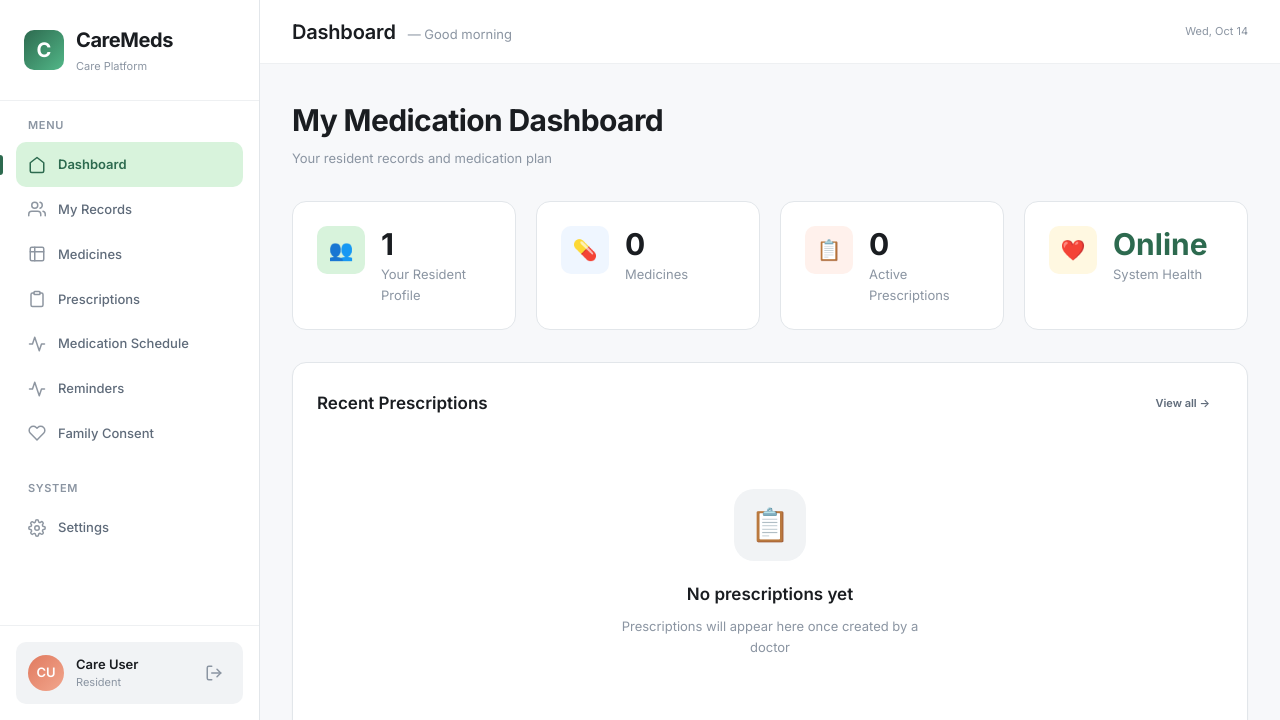
it: CareMeds role-based application surfaces › keeps resident reminder acknowledgement separate from administration
Check: the heading "My Medication Dashboard" is shown, box [292,96,663,144]
Click the button "Medication Schedule" at (130, 344), box [16,321,243,366]
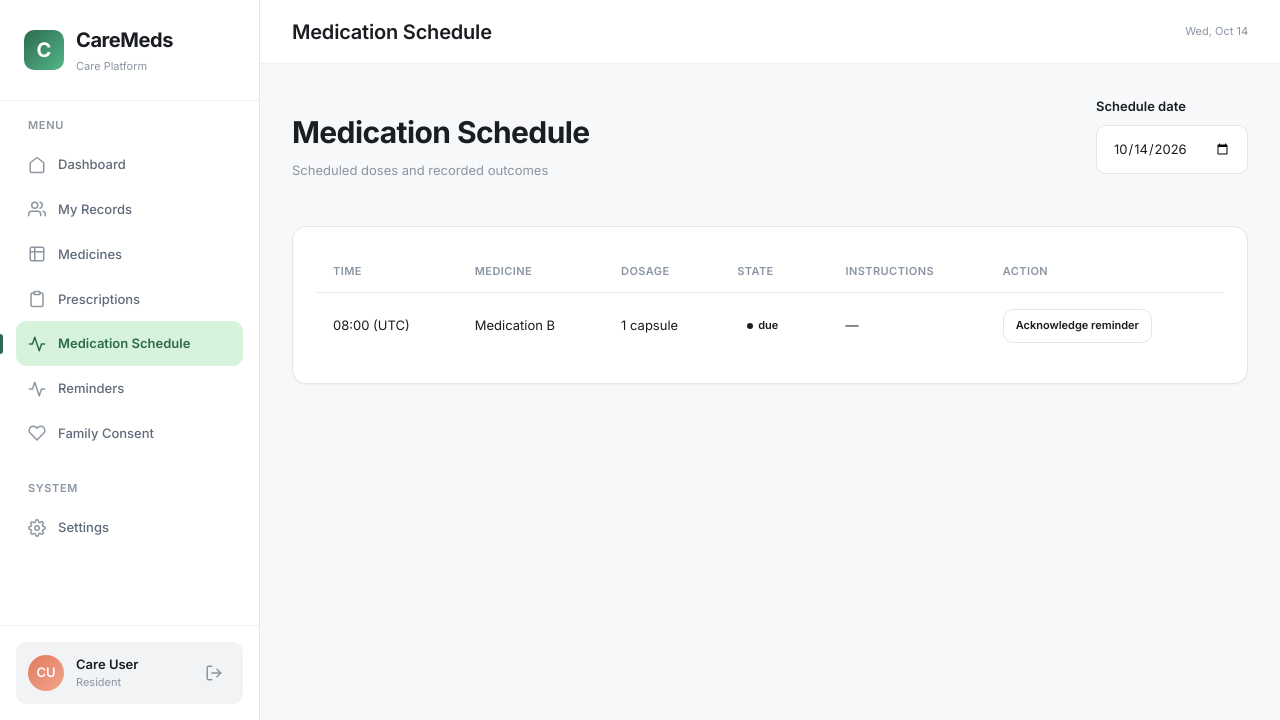
Check: the text "Medication B" is shown, box [459,293,605,359]
Click the button "Acknowledge reminder" at (1077, 326), box [1003,309,1152,343]
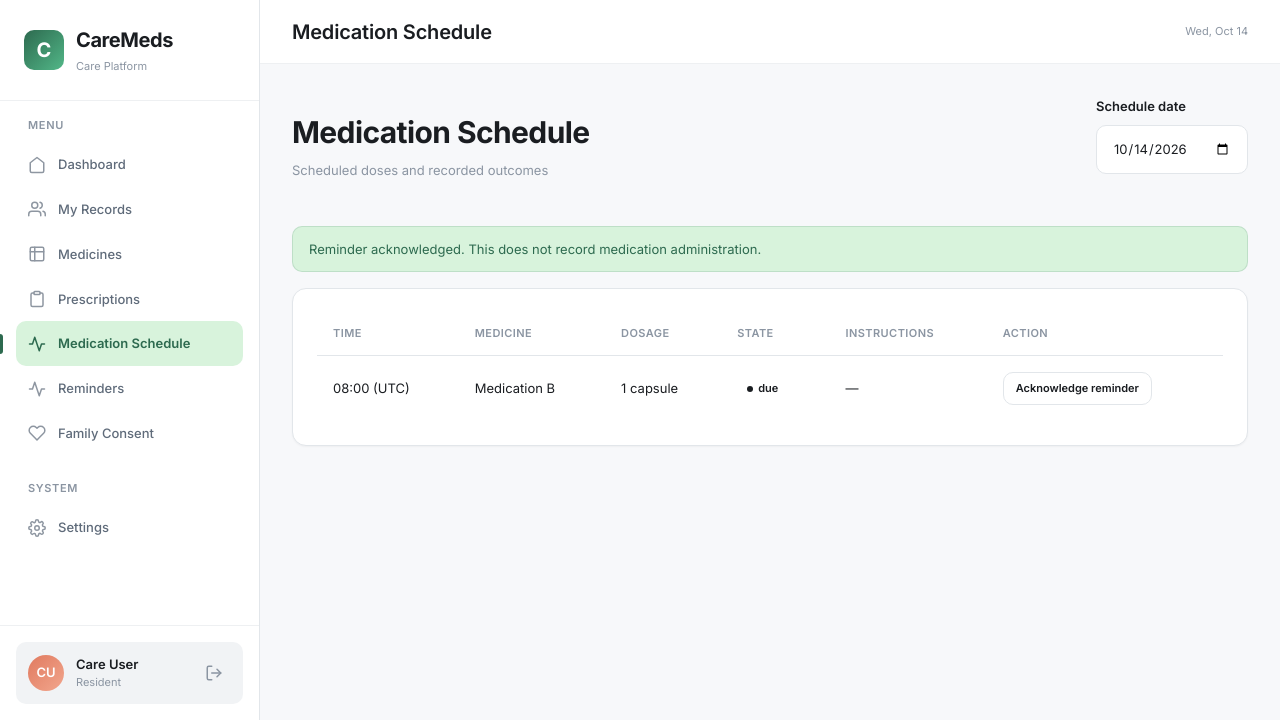
Check: the text "does not record medication administration" is shown, box [309,241,761,257]
